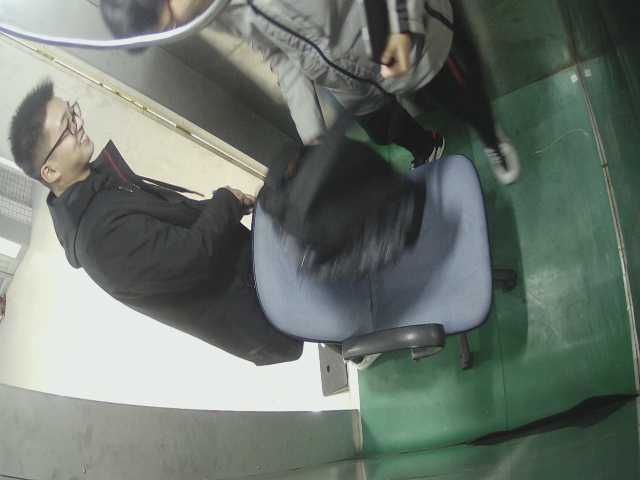bag: (256, 134, 427, 269)
chair: (235, 151, 516, 384)
person: (7, 83, 282, 378), (95, 1, 532, 162)
